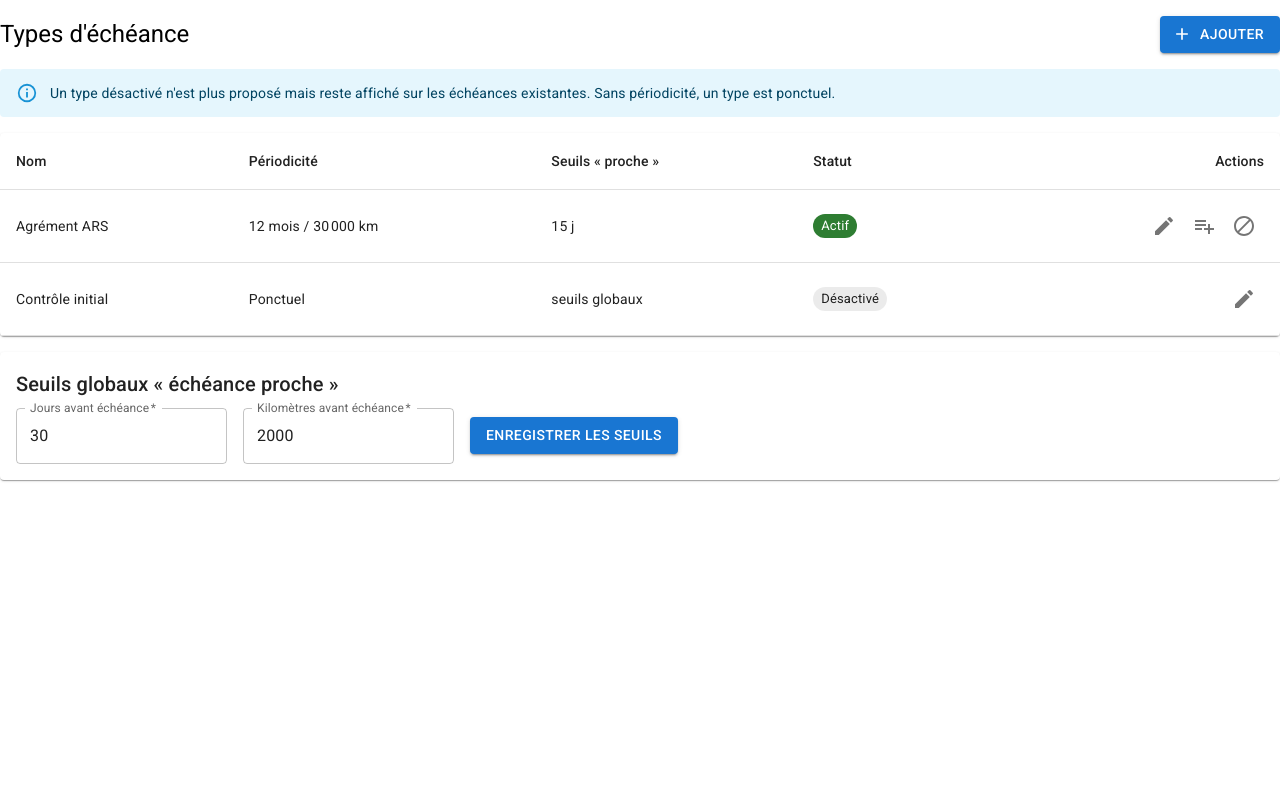
Test case: DeadlineTypesPage › modifie un type en renvoyant tous les champs et affiche l'erreur métier
Check: the text "Agrément ARS" is shown, box [0, 189, 233, 262]
Click the button named "Modifier Agrément ARS": click(1164, 226) [1144, 206, 1184, 246]
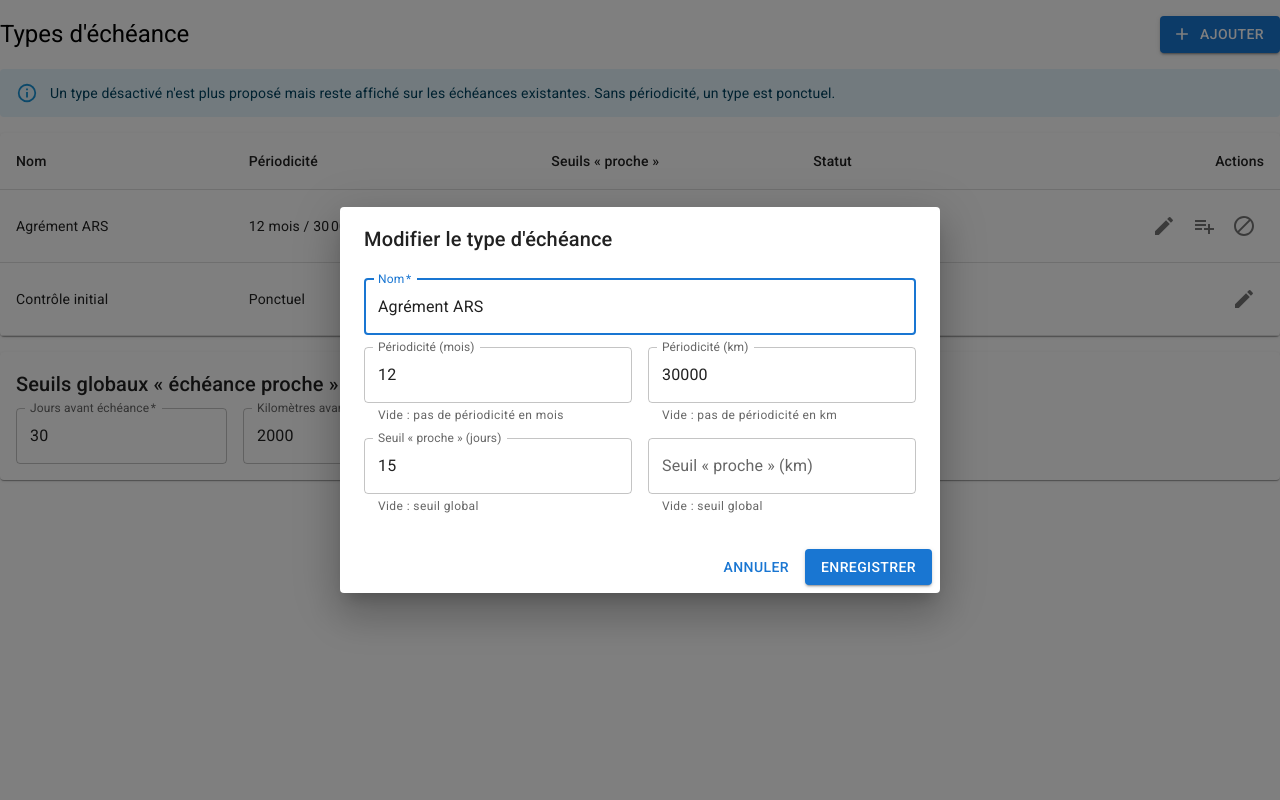
Replace the text in the number field labelled "Périodicité (mois)" with "24": (498, 375) [364, 347, 632, 403]
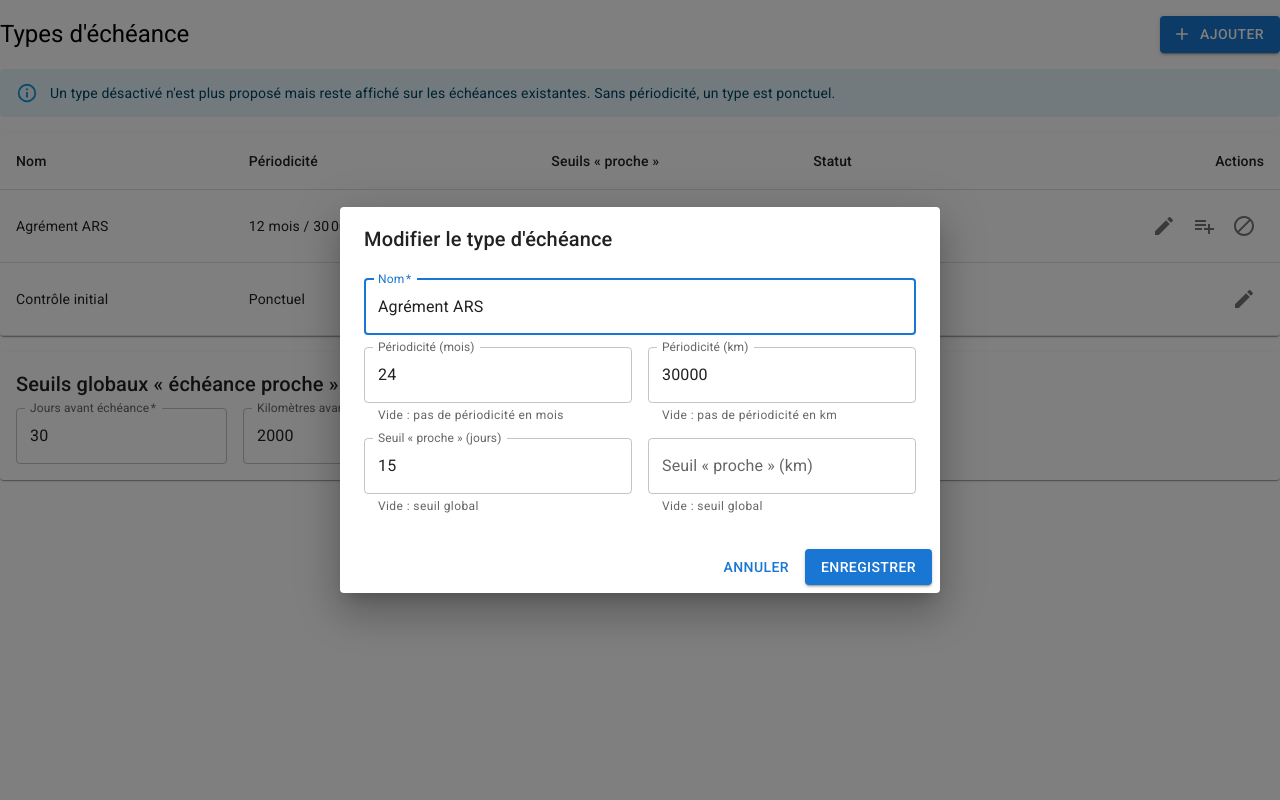
Click the button "Enregistrer": click(868, 567) [805, 549, 932, 585]
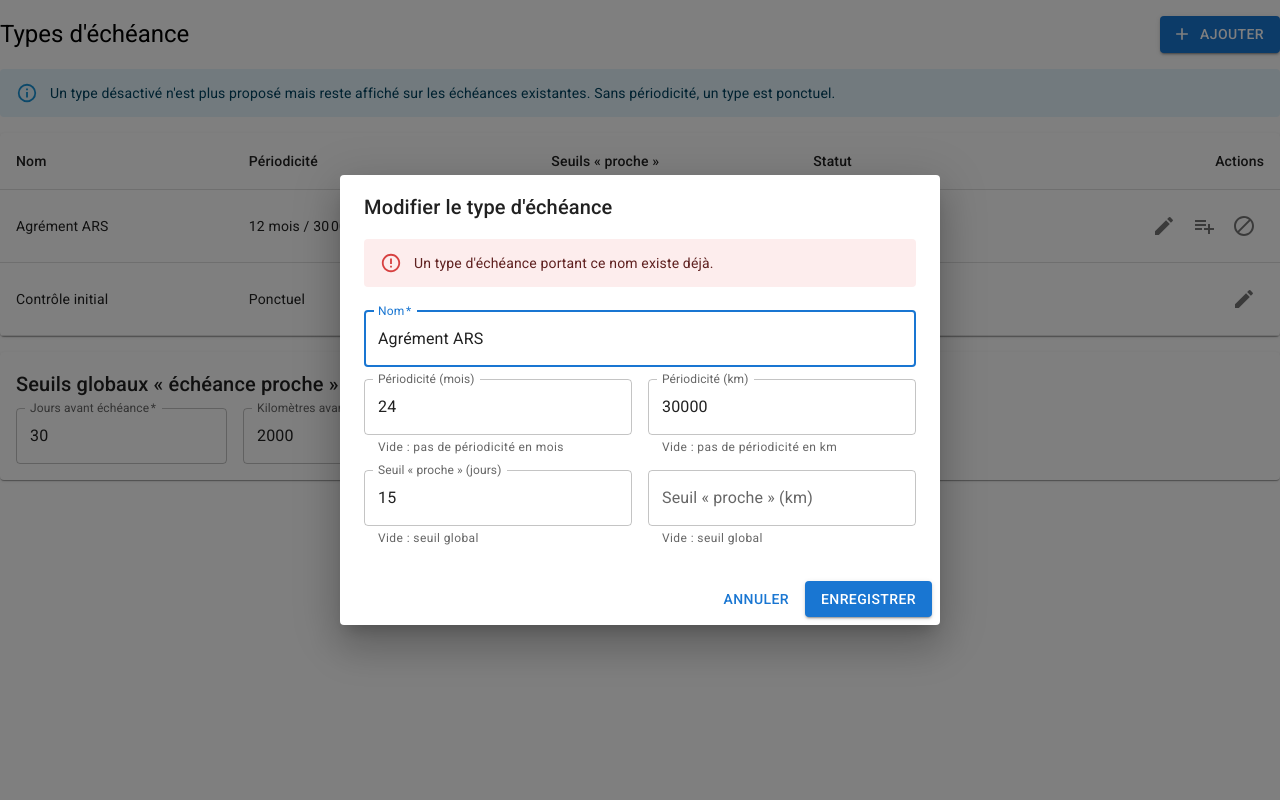
Check: the text "Un type d'échéance portant ce nom existe déjà." is shown, box [414, 255, 714, 271]
